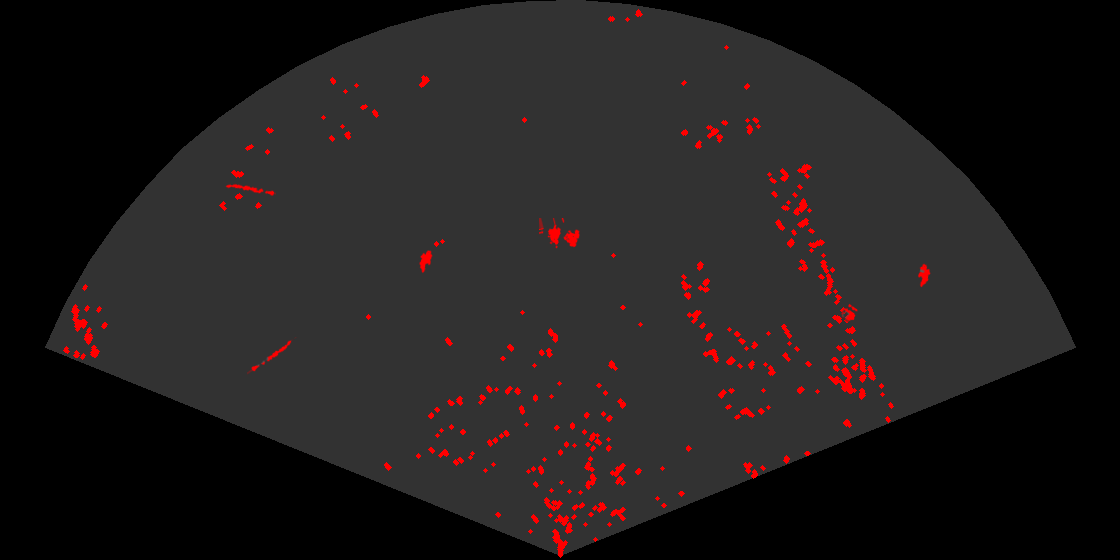AUV: (916, 262, 932, 289), (418, 249, 434, 275)
ball: (840, 302, 860, 323)
cage: (539, 218, 581, 250)
chain: (247, 337, 298, 376), (224, 182, 276, 197)
